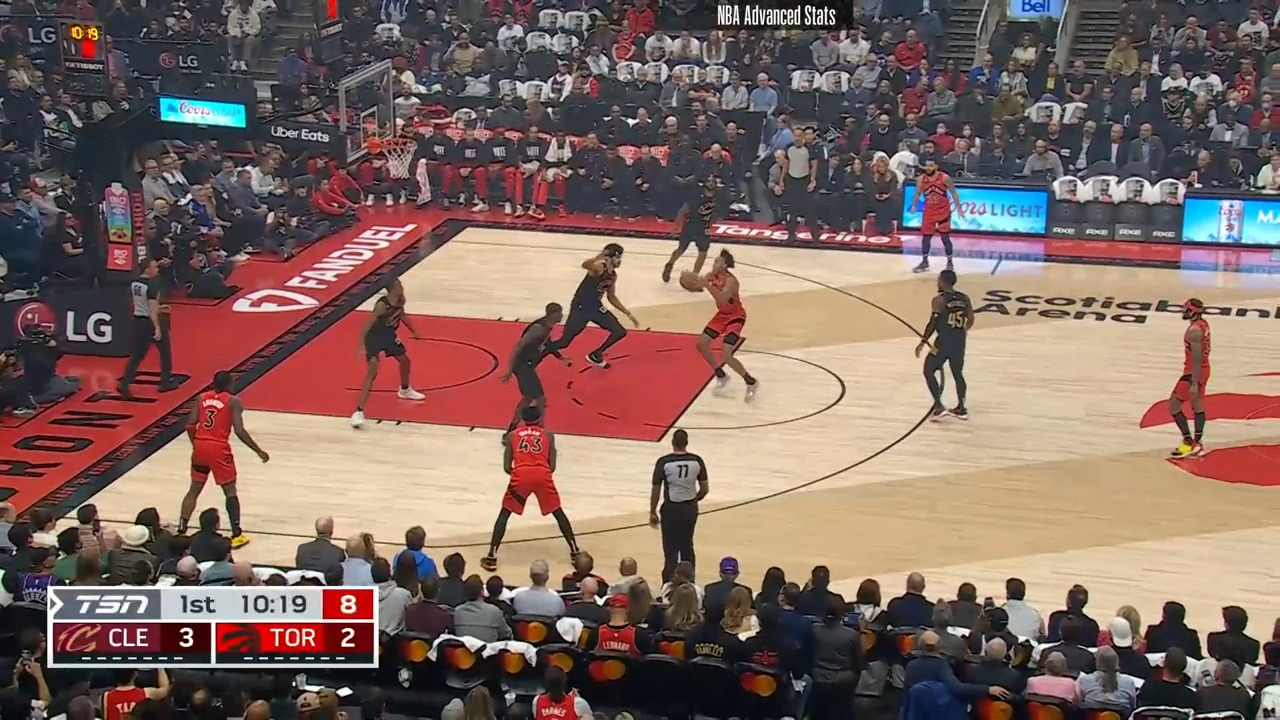net: (363, 133, 418, 183)
player: (485, 396, 589, 569), (178, 369, 271, 548), (551, 243, 642, 375), (353, 274, 429, 429), (687, 247, 757, 405), (920, 267, 983, 423), (505, 302, 574, 430), (1164, 298, 1213, 464), (664, 176, 728, 285), (916, 158, 966, 282)
referee: (651, 424, 716, 580), (121, 256, 180, 399), (773, 124, 822, 247)
